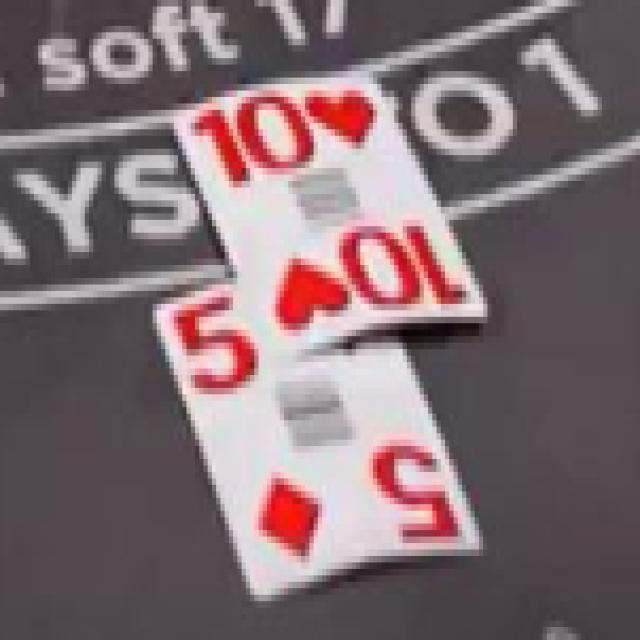Card-10: (173, 62, 486, 364)
Card-5: (152, 278, 484, 604)
